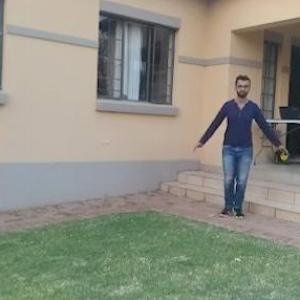land: (190, 85, 281, 230)
